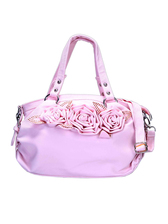bag: (5, 34, 157, 181)
